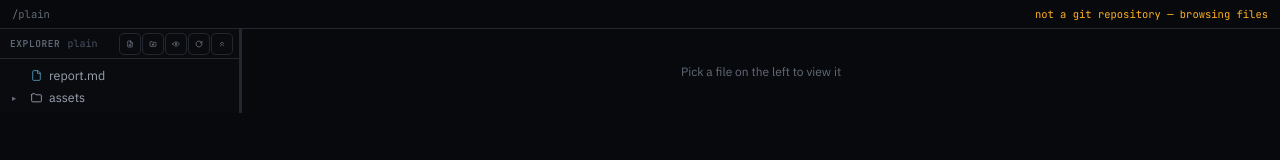
Test: GitWorkbench without a git repository › opens a file in the rich viewer on click
Click the button "report.md" at [120, 75], box [4,64,235,86]
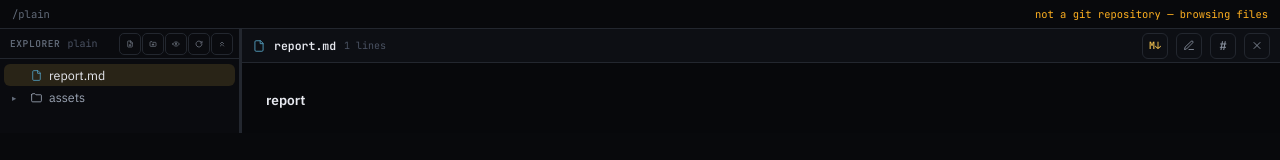
Check: the text "1 lines" is shown, box [344,39,386,52]
